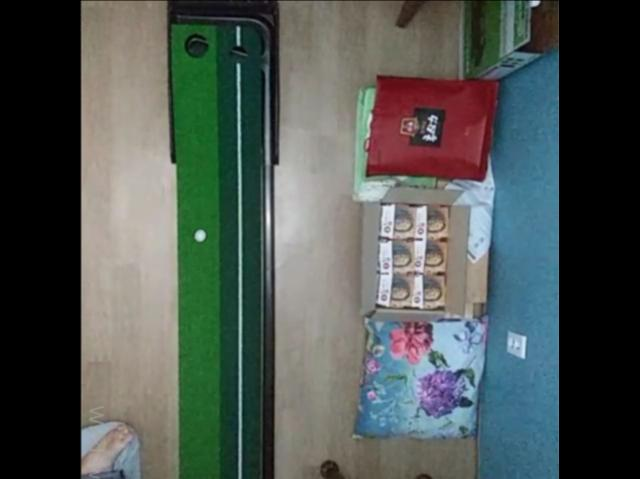golf_ball: (191, 226, 208, 243)
green_zone: (172, 22, 262, 479)
hole: (183, 32, 209, 58), (227, 45, 249, 62)
